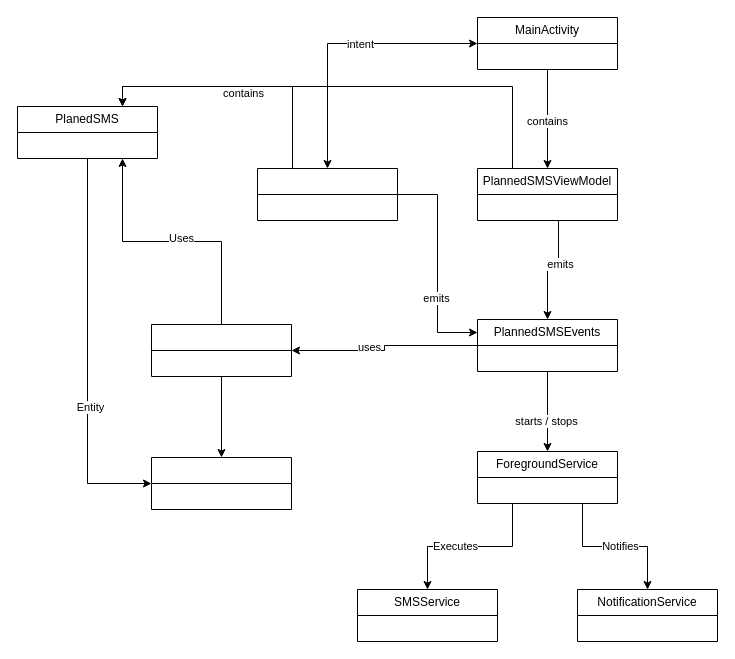
Some shapes in this 735 by 659 pixel diagram are drawn without their labels. Each missing label, with the centre of its shape:
"DAO" belongs at (221,350).
"DetailActivity" belongs at (327,194).
"Repository" belongs at (221,483).
